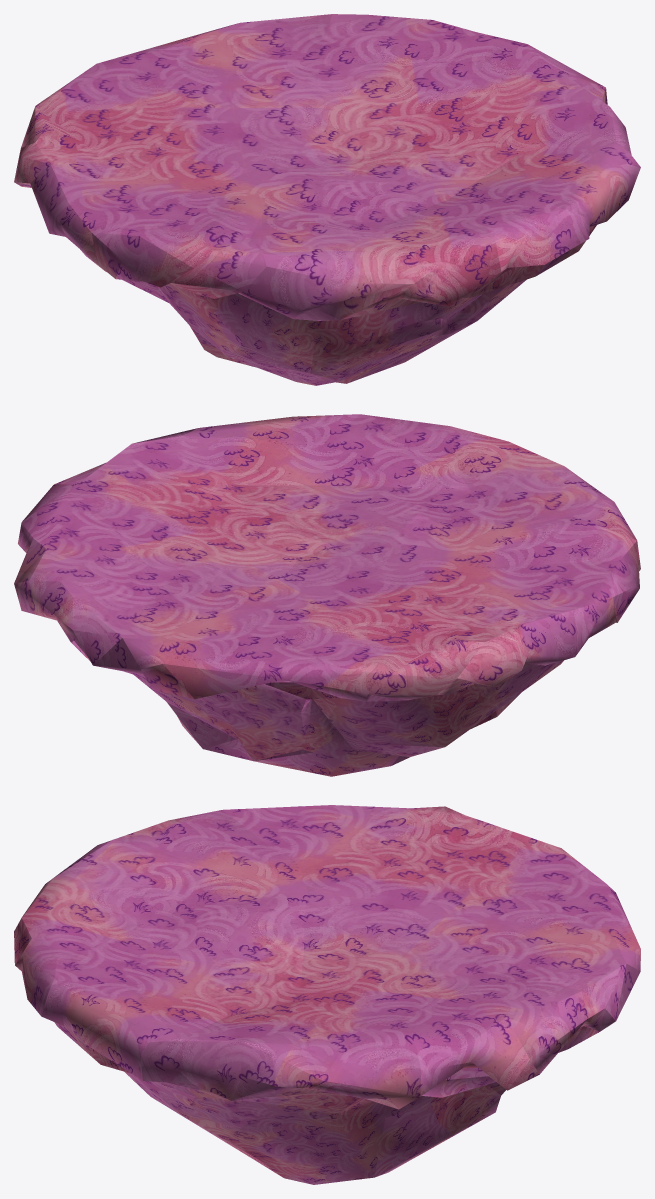
File: floating-island-01-art.glb
3 renders of one model, top to bottom at view 1: azimuth 30°, elevation 25°; view 2: azimuth 150°, elevation 25°; view 3: azimuth 270°, elevation 25°, orthographic.
Visible parts, largest first — view 1: Floating_Island_01_Art; view 2: Floating_Island_01_Art; view 3: Floating_Island_01_Art.
Part boxes in pixels (<box>): Floating_Island_01_Art: <box>14,14,640,385</box>; Floating_Island_01_Art: <box>14,414,640,776</box>; Floating_Island_01_Art: <box>14,805,640,1184</box>.
Bounding box in the file's own units: 14.79 × 5.6 × 14.49.
Materials: 1 (1 with a texture image).
